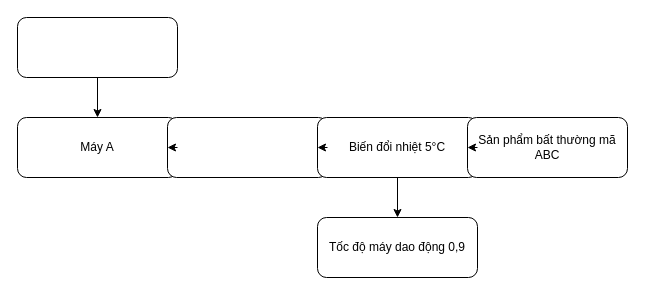
Some shapes in this 645 by 295 pixel diagram are drawn without their labels. Each missing label, with the centre of its shape:
Nóng thiết bị AB: the point at 247,147
Vấn đề: bị cháo dây: the point at 97,47
